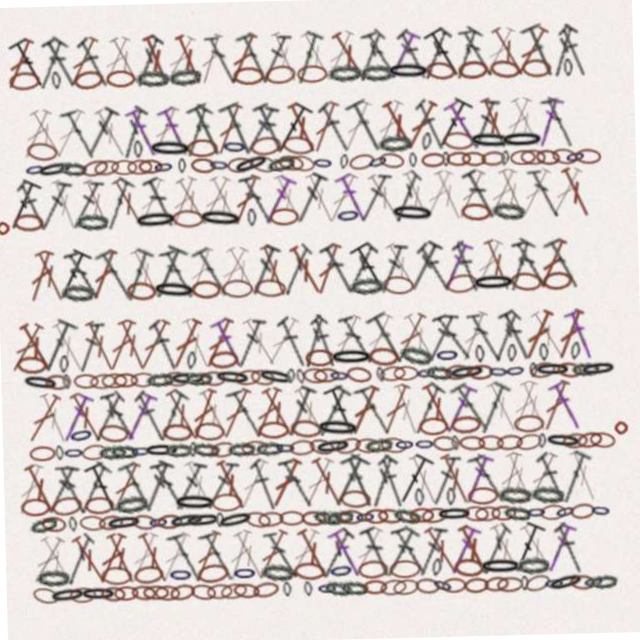chain: (200, 205, 246, 227), (236, 150, 275, 175), (392, 205, 438, 226), (152, 276, 198, 297), (312, 418, 358, 439), (472, 135, 518, 155), (152, 135, 197, 155), (136, 206, 181, 226), (397, 345, 433, 370), (540, 577, 579, 600), (255, 365, 294, 387), (211, 507, 250, 529), (392, 64, 437, 83), (168, 490, 213, 509), (504, 136, 549, 154), (472, 278, 517, 296), (328, 349, 373, 367), (472, 562, 517, 580), (109, 488, 144, 511), (40, 153, 78, 173), (20, 366, 58, 386), (46, 488, 79, 511), (30, 134, 63, 156), (286, 134, 319, 156), (446, 276, 479, 298), (212, 366, 250, 385), (163, 508, 201, 527), (174, 63, 208, 84), (494, 205, 528, 226), (79, 63, 111, 85), (431, 63, 463, 85), (495, 63, 527, 85), (254, 134, 287, 155), (190, 560, 223, 581), (447, 367, 485, 385), (578, 367, 616, 385), (311, 438, 349, 456), (541, 438, 579, 456), (100, 509, 138, 527), (42, 580, 80, 598), (23, 507, 54, 529), (382, 135, 416, 155), (350, 277, 384, 297), (526, 490, 560, 510), (254, 561, 288, 581), (447, 134, 479, 155), (511, 276, 543, 297), (95, 418, 127, 439), (287, 418, 319, 439), (271, 63, 302, 84), (127, 276, 158, 297), (127, 560, 158, 581), (179, 509, 217, 526), (255, 277, 287, 297), (383, 277, 415, 297), (335, 490, 367, 510), (287, 561, 319, 581), (334, 64, 367, 83), (62, 277, 95, 296), (494, 490, 527, 509), (510, 561, 543, 580), (463, 206, 494, 226), (15, 348, 46, 368), (367, 348, 398, 368), (159, 419, 190, 439), (447, 561, 478, 581), (331, 436, 360, 457), (270, 153, 300, 173), (387, 508, 417, 528), (142, 65, 175, 83), (366, 65, 399, 83), (78, 207, 111, 225), (65, 418, 92, 440), (30, 562, 63, 580), (15, 64, 46, 83), (175, 206, 206, 225), (223, 277, 254, 296), (543, 277, 574, 296), (191, 419, 222, 438), (95, 561, 126, 580), (351, 561, 382, 580), (85, 152, 113, 173), (517, 578, 545, 599), (464, 64, 494, 83), (528, 64, 558, 83), (16, 206, 46, 225), (192, 277, 222, 296), (208, 348, 238, 367), (448, 419, 478, 438), (307, 508, 337, 527), (316, 579, 346, 598), (254, 153, 282, 173), (292, 153, 320, 173), (352, 153, 380, 173), (512, 437, 540, 457), (239, 508, 267, 528), (25, 579, 53, 599), (239, 65, 270, 83), (303, 65, 334, 83), (191, 136, 222, 154), (255, 420, 286, 438), (511, 420, 542, 438), (207, 491, 238, 509), (463, 491, 494, 509), (383, 562, 414, 580), (168, 368, 205, 383), (533, 368, 570, 383), (140, 439, 177, 454), (431, 510, 468, 525), (73, 581, 110, 596), (112, 65, 142, 83), (272, 207, 302, 225), (304, 349, 334, 367), (248, 366, 275, 386), (416, 420, 446, 438), (305, 437, 332, 457), (16, 491, 46, 509), (80, 491, 110, 509), (281, 153, 309, 172), (245, 579, 273, 598), (498, 509, 527, 527), (338, 206, 364, 226), (322, 561, 348, 581), (97, 153, 124, 172), (382, 153, 409, 172), (555, 153, 582, 172), (344, 366, 371, 385), (528, 366, 555, 385), (573, 437, 600, 456), (162, 579, 189, 598), (213, 580, 241, 598), (424, 578, 448, 599), (226, 135, 252, 154), (62, 154, 91, 171), (144, 367, 173, 384), (423, 367, 452, 384), (188, 438, 217, 455), (361, 438, 390, 455), (320, 509, 349, 526), (333, 580, 362, 597), (582, 580, 611, 597), (377, 438, 404, 456), (586, 438, 613, 456), (126, 509, 153, 527), (416, 509, 443, 527), (183, 580, 210, 598), (226, 580, 253, 598), (373, 580, 400, 598), (386, 580, 413, 598), (370, 153, 394, 173), (539, 154, 565, 172), (555, 367, 581, 385), (207, 438, 233, 456), (372, 509, 398, 527), (233, 367, 260, 384), (378, 367, 405, 384), (78, 438, 105, 455), (238, 438, 265, 455), (74, 509, 101, 526), (434, 349, 459, 367), (162, 562, 187, 580), (226, 562, 251, 580), (95, 439, 123, 455), (224, 439, 252, 455), (252, 439, 280, 455), (194, 154, 220, 171), (524, 154, 550, 171), (43, 367, 69, 384), (162, 367, 188, 384), (301, 367, 327, 384), (443, 367, 469, 384), (429, 438, 455, 455), (36, 509, 62, 526), (93, 509, 119, 526), (458, 509, 484, 526), (565, 509, 591, 526), (124, 580, 150, 597), (408, 580, 434, 597), (477, 580, 503, 597), (549, 508, 572, 527), (88, 368, 115, 384), (493, 439, 520, 455), (183, 368, 211, 383), (570, 368, 598, 383), (107, 439, 135, 454), (161, 439, 189, 454), (465, 155, 491, 171), (579, 155, 605, 171), (199, 368, 225, 384), (286, 439, 312, 455), (456, 439, 482, 455), (475, 439, 501, 455), (559, 439, 585, 455), (253, 510, 279, 526), (470, 510, 496, 526), (535, 510, 561, 526), (63, 581, 89, 597), (200, 581, 226, 597), (457, 581, 483, 597), (490, 581, 516, 597), (563, 581, 589, 597), (568, 154, 591, 172), (231, 155, 256, 171), (425, 155, 450, 171), (485, 155, 510, 171), (467, 368, 492, 384), (352, 439, 377, 455), (152, 510, 177, 526), (296, 510, 321, 526), (334, 510, 359, 526), (94, 581, 119, 597), (148, 581, 173, 597), (115, 155, 141, 170), (514, 155, 540, 170), (100, 368, 126, 383), (312, 368, 338, 383), (26, 439, 52, 454), (274, 510, 300, 525), (136, 581, 162, 596), (131, 155, 156, 170), (142, 155, 167, 170), (450, 155, 475, 170), (72, 368, 97, 383), (112, 368, 137, 383), (129, 368, 154, 383), (392, 368, 417, 383), (359, 510, 384, 525), (404, 510, 429, 525), (486, 510, 511, 525), (107, 581, 132, 596), (356, 581, 381, 596), (435, 581, 460, 596), (28, 154, 50, 171), (212, 154, 234, 171), (414, 367, 436, 384), (503, 367, 525, 384), (585, 509, 607, 526), (576, 580, 598, 597), (316, 155, 338, 171), (327, 368, 349, 384), (486, 368, 508, 384), (157, 155, 178, 171), (272, 439, 293, 455), (143, 510, 164, 526), (350, 510, 371, 526), (537, 581, 558, 597), (60, 439, 81, 454), (127, 439, 148, 454), (391, 439, 412, 454), (411, 439, 432, 454), (521, 510, 542, 525), (310, 581, 331, 596), (425, 135, 437, 154), (185, 348, 196, 367), (569, 348, 580, 367), (425, 561, 436, 580), (57, 65, 68, 83), (58, 349, 68, 367), (474, 349, 484, 367), (506, 349, 516, 367), (538, 349, 548, 367), (410, 491, 420, 509), (294, 368, 305, 384), (374, 368, 385, 384), (570, 65, 579, 83), (138, 136, 147, 154), (250, 207, 259, 225), (442, 491, 451, 509), (504, 155, 514, 171), (63, 510, 73, 526), (343, 155, 353, 170), (61, 368, 70, 383), (285, 368, 294, 383), (52, 439, 61, 454), (448, 439, 457, 454), (276, 581, 285, 596), (297, 581, 306, 596), (182, 155, 190, 170), (413, 155, 421, 170), (446, 155, 454, 170), (528, 368, 536, 383), (186, 439, 194, 454), (535, 439, 543, 454), (211, 510, 219, 525), (514, 581, 522, 596)
double: (429, 28, 474, 85), (365, 312, 410, 369), (323, 454, 368, 511), (275, 100, 320, 156), (14, 28, 58, 85), (436, 99, 480, 156), (350, 241, 394, 298), (388, 454, 432, 511), (350, 99, 393, 156), (36, 312, 79, 369), (446, 384, 490, 439), (372, 526, 416, 581), (191, 99, 233, 156), (5, 170, 47, 227), (53, 241, 95, 298), (149, 241, 191, 298), (308, 384, 351, 439), (191, 242, 233, 298), (527, 28, 568, 85), (223, 99, 264, 156), (79, 454, 120, 511), (501, 525, 542, 582), (20, 385, 63, 439), (463, 455, 505, 510), (95, 242, 136, 298), (543, 242, 584, 298), (320, 383, 360, 440), (336, 454, 376, 511), (335, 30, 377, 84), (517, 30, 559, 84), (367, 172, 409, 226), (5, 314, 47, 368), (261, 314, 303, 368), (527, 314, 569, 368), (21, 527, 63, 581), (63, 527, 105, 581), (415, 527, 457, 581), (47, 29, 88, 84), (367, 29, 408, 84), (485, 29, 526, 84), (495, 29, 536, 84), (31, 100, 72, 155), (175, 171, 216, 226), (549, 171, 590, 226), (213, 242, 254, 297), (287, 242, 328, 297), (383, 242, 424, 297), (15, 313, 56, 368), (223, 384, 264, 439), (351, 384, 392, 439), (405, 384, 446, 439), (69, 455, 110, 510), (31, 526, 72, 581), (64, 100, 104, 156), (470, 384, 510, 440), (112, 455, 152, 511), (160, 526, 200, 582), (165, 30, 206, 84), (447, 101, 488, 155), (239, 314, 280, 368), (511, 527, 552, 581), (112, 29, 152, 84), (54, 100, 94, 155), (86, 100, 126, 155), (384, 100, 424, 155), (112, 171, 152, 226), (198, 171, 238, 226), (464, 171, 504, 226), (518, 171, 558, 226), (224, 242, 264, 297), (320, 242, 360, 297), (406, 242, 446, 297), (48, 313, 88, 368), (134, 313, 174, 368), (390, 313, 430, 368), (400, 313, 440, 368), (64, 384, 104, 439), (160, 384, 200, 439), (256, 384, 296, 439), (288, 384, 328, 439), (262, 455, 302, 510), (294, 455, 334, 510), (518, 455, 558, 510), (192, 526, 232, 581), (246, 526, 286, 581), (278, 526, 318, 581), (342, 526, 382, 581), (160, 242, 199, 298), (150, 384, 189, 440), (550, 455, 589, 511), (406, 101, 446, 155), (70, 29, 109, 84), (304, 29, 343, 84), (22, 100, 61, 155), (512, 100, 551, 155), (294, 171, 333, 226), (422, 171, 461, 226), (486, 171, 525, 226), (128, 242, 167, 297), (470, 242, 509, 297), (166, 313, 205, 368), (358, 313, 397, 368), (102, 455, 141, 510), (230, 455, 269, 510), (304, 455, 343, 510), (150, 526, 189, 581), (288, 526, 327, 581), (39, 29, 77, 85), (241, 29, 279, 85), (545, 100, 583, 156), (119, 242, 157, 298), (390, 30, 429, 84), (96, 101, 135, 155), (262, 172, 301, 226), (326, 172, 365, 226), (118, 385, 157, 439), (438, 385, 477, 439), (224, 527, 263, 581), (103, 29, 141, 84), (327, 29, 365, 84), (343, 100, 381, 155), (503, 100, 541, 155), (145, 171, 183, 226), (209, 171, 247, 226), (273, 171, 311, 226), (455, 171, 493, 226), (81, 313, 119, 368), (199, 313, 237, 368), (327, 313, 365, 368), (497, 313, 535, 368), (519, 313, 557, 368), (55, 384, 93, 439), (193, 384, 231, 439), (215, 384, 253, 439), (343, 384, 381, 439), (417, 384, 455, 439), (481, 384, 519, 439), (545, 384, 583, 439), (17, 455, 55, 510), (177, 455, 215, 510), (87, 526, 125, 581), (119, 526, 157, 581), (129, 526, 167, 581), (321, 526, 359, 581), (439, 526, 477, 581), (449, 526, 487, 581), (481, 526, 519, 581), (432, 315, 472, 367), (310, 528, 350, 580), (295, 29, 332, 85), (455, 29, 492, 85), (103, 171, 140, 227), (342, 243, 381, 296), (231, 29, 268, 84), (129, 100, 166, 155), (151, 100, 188, 155), (161, 100, 198, 155), (257, 100, 294, 155), (289, 100, 326, 155), (375, 100, 412, 155), (135, 171, 172, 226), (231, 171, 268, 226), (305, 171, 342, 226), (337, 171, 374, 226), (561, 171, 598, 226), (33, 242, 70, 297), (247, 242, 284, 297), (439, 242, 476, 297), (535, 242, 572, 297), (103, 313, 140, 368), (209, 313, 246, 368), (455, 313, 492, 368), (551, 313, 588, 368), (247, 384, 284, 439), (375, 384, 412, 439), (535, 384, 572, 439), (135, 455, 172, 510), (209, 455, 246, 510), (401, 455, 438, 510), (433, 455, 470, 510), (97, 526, 134, 581), (183, 526, 220, 581), (353, 526, 390, 581), (416, 244, 455, 296), (184, 100, 220, 156), (87, 385, 125, 438), (257, 527, 295, 580), (65, 243, 102, 297), (513, 243, 550, 297), (385, 527, 422, 581), (8, 29, 44, 84), (216, 100, 252, 155), (312, 100, 348, 155), (82, 171, 118, 226), (168, 171, 204, 226), (402, 171, 438, 226), (434, 171, 470, 226), (498, 171, 534, 226), (114, 313, 150, 368), (178, 313, 214, 368), (280, 384, 316, 439), (504, 384, 540, 439), (514, 384, 550, 439), (8, 455, 44, 510), (498, 455, 534, 510), (536, 526, 572, 581), (247, 102, 285, 154), (465, 30, 502, 83), (321, 101, 358, 154), (167, 456, 204, 509), (199, 456, 236, 509), (504, 242, 539, 298), (136, 30, 172, 84), (424, 30, 460, 84), (338, 314, 374, 368), (98, 385, 134, 439), (146, 456, 182, 510), (274, 456, 310, 510), (146, 29, 181, 84), (178, 29, 213, 84), (274, 29, 309, 84), (482, 100, 517, 155), (88, 242, 123, 297), (184, 242, 219, 297), (258, 242, 293, 297), (312, 242, 347, 297), (482, 242, 517, 297), (34, 384, 69, 439), (184, 384, 219, 439), (456, 455, 491, 510), (562, 455, 597, 510), (82, 30, 118, 83), (40, 172, 76, 225), (72, 172, 108, 225), (360, 172, 396, 225), (280, 243, 316, 296), (466, 314, 502, 367), (130, 385, 166, 438), (40, 456, 76, 509), (472, 527, 508, 580), (242, 172, 277, 226), (51, 171, 85, 226), (25, 242, 59, 297), (563, 313, 597, 368), (387, 384, 421, 439), (217, 526, 251, 581), (402, 30, 437, 83), (418, 101, 453, 154), (18, 172, 53, 225), (530, 172, 565, 225), (424, 314, 459, 367), (56, 527, 91, 580), (211, 30, 245, 84), (265, 30, 299, 84), (563, 30, 597, 84), (393, 172, 427, 226), (233, 314, 267, 368), (275, 314, 309, 368), (489, 314, 523, 368), (361, 456, 395, 510), (531, 456, 565, 510), (409, 527, 443, 581), (361, 30, 394, 84), (553, 30, 586, 84), (121, 101, 154, 155), (147, 314, 180, 368), (51, 456, 84, 510), (425, 456, 458, 510), (547, 527, 580, 581), (202, 29, 234, 84), (538, 100, 570, 155), (490, 455, 522, 510), (474, 101, 506, 155), (378, 243, 410, 297), (452, 243, 484, 297), (244, 456, 276, 510), (308, 314, 339, 368), (372, 456, 403, 510), (75, 314, 105, 368), (299, 314, 329, 368)
noise: (611, 428, 626, 443), (0, 213, 13, 228)
